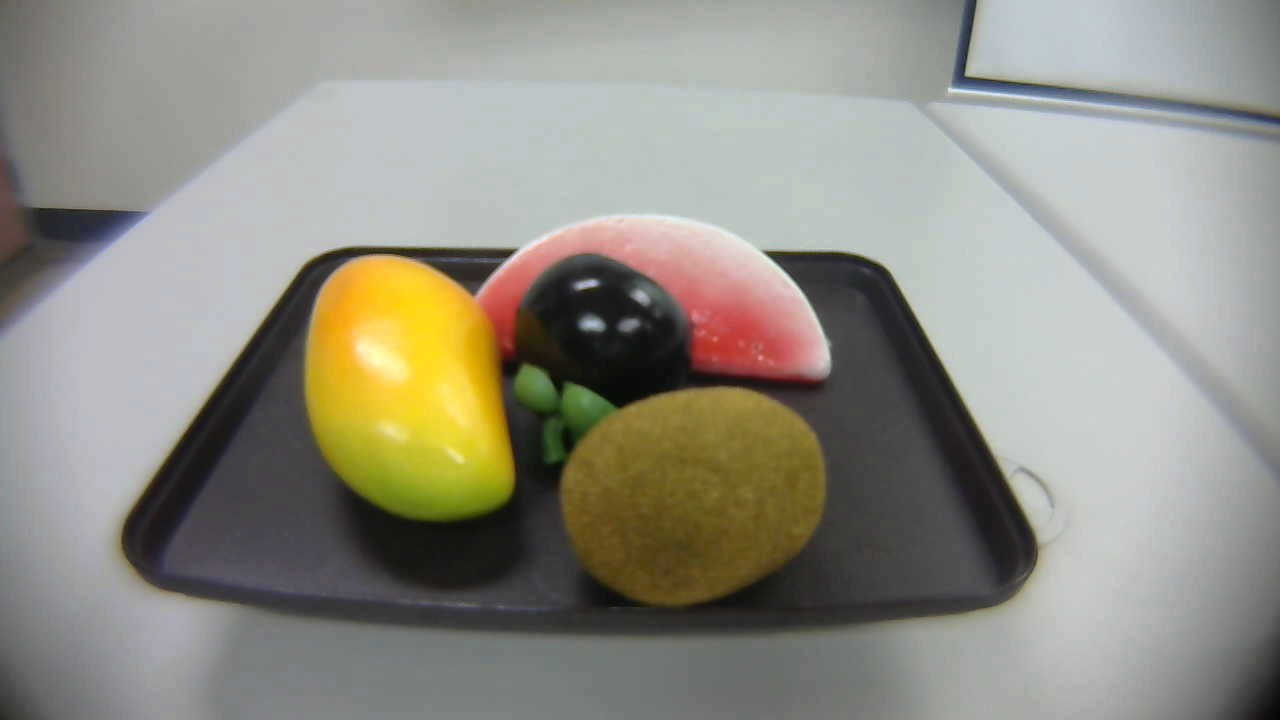kiwi fruit: (560, 386, 835, 620)
mangosteen: (496, 255, 697, 455)
water melon: (465, 209, 838, 403)
yellow mango: (297, 251, 525, 524)
